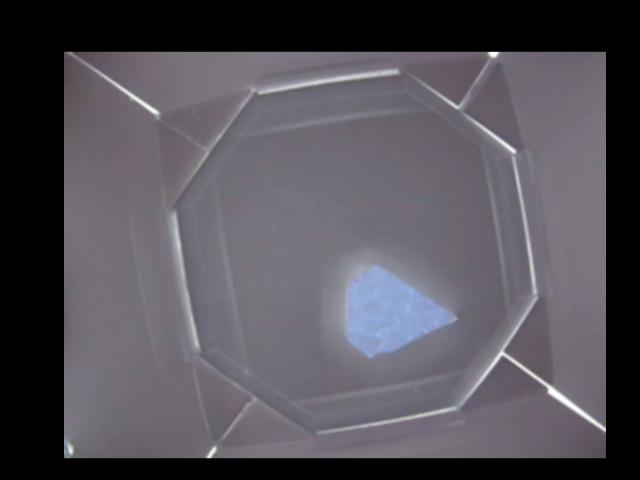China: (345, 264, 460, 362)
